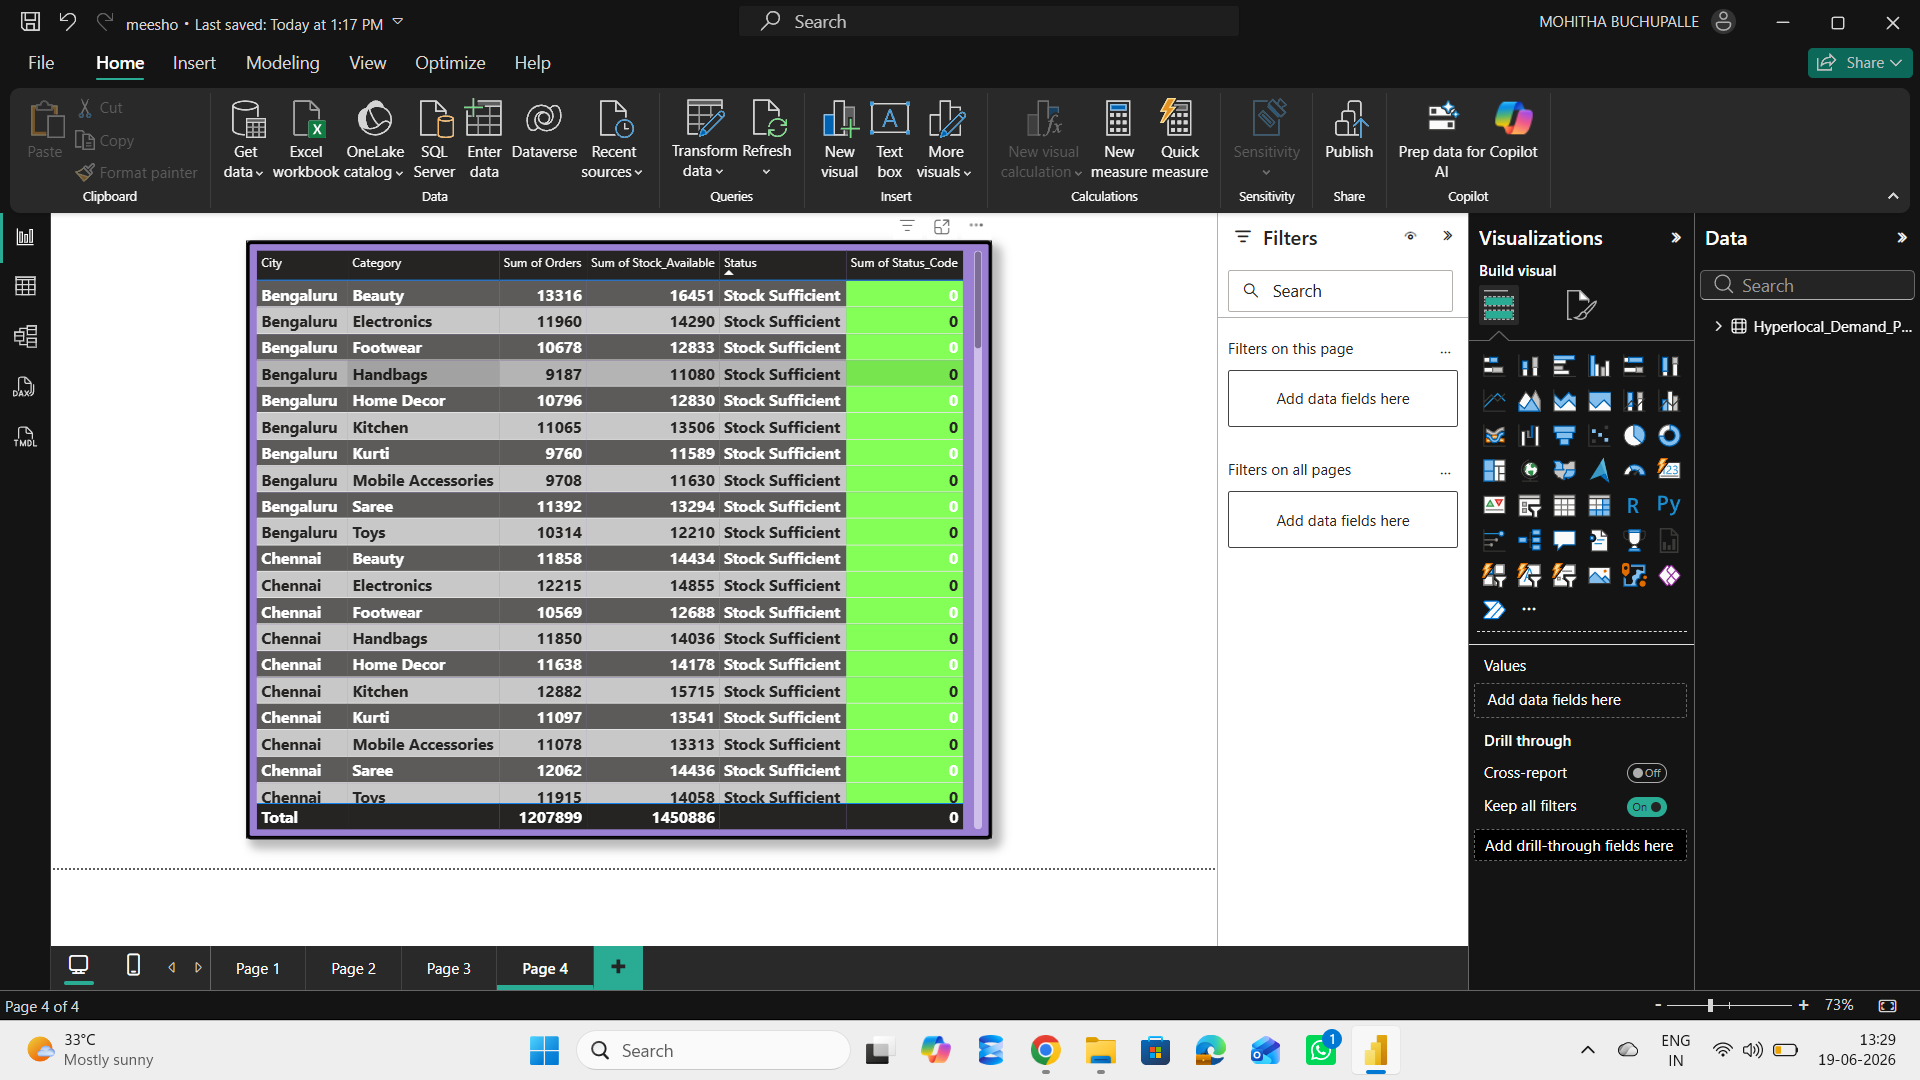

Layout of this report page (visuals, bound fields, positions):
{"tool":"powerbi","page":{"name":"Page 4","canvas":[1280,720],"ordinal":3},"visuals":[{"type":"tableEx","fields":{"Values":["Hyperlocal_Demand_Prediction_Dataset.City","Hyperlocal_Demand_Prediction_Dataset.Category","Sum(Hyperlocal_Demand_Prediction_Dataset.Orders)","Sum(Hyperlocal_Demand_Prediction_Dataset.Stock_Available)","Hyperlocal_Demand_Prediction_Dataset.Status","Sum(Hyperlocal_Demand_Prediction_Dataset.Status_Code)"]},"box":[214.1,30.2,819.2,657.3],"z":0}]}

Visuals, with their boxes on the page's 1280x720 design canvas (x1, y1, x2, y2). These are canvas units, not pixel positions in the 1920x1080 screenshot, which may show the page scaled, cropped or inside an application window:
tableEx - Hyperlocal_Demand_Prediction_Dataset.City x Hyperlocal_Demand_Prediction_Dataset.Category: (214, 30, 1033, 688)
